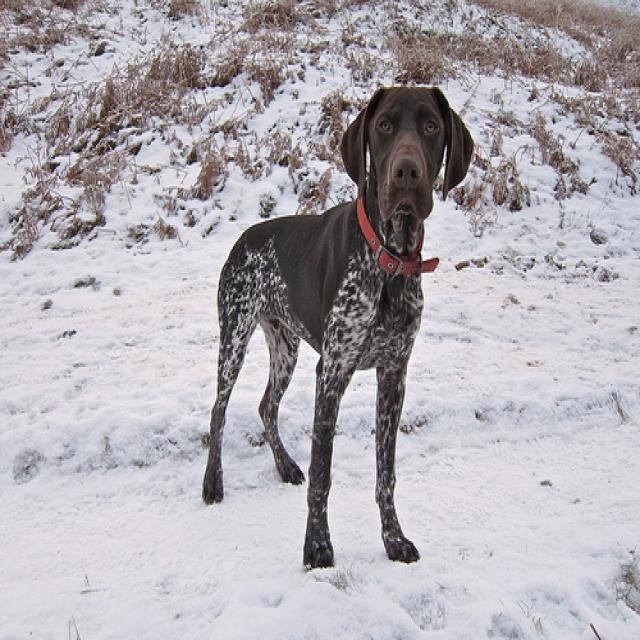dog-german_shorthaired: (197, 77, 479, 575)
